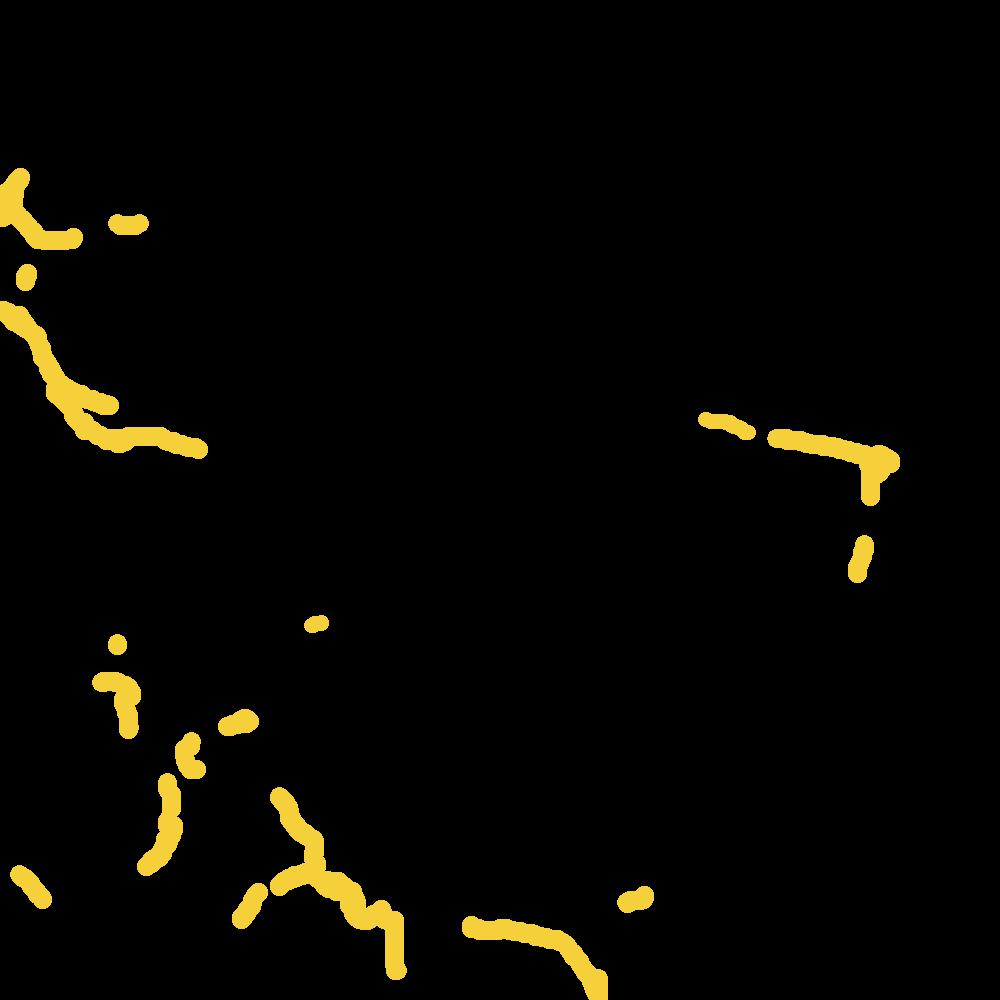legal: (725, 421, 909, 583), (265, 779, 405, 941), (45, 376, 208, 460), (1, 192, 163, 261), (136, 740, 200, 876), (1, 269, 48, 363), (106, 628, 138, 740), (564, 933, 606, 992), (476, 915, 546, 942), (224, 708, 266, 729), (234, 890, 259, 921), (619, 893, 641, 909), (309, 618, 328, 636)
